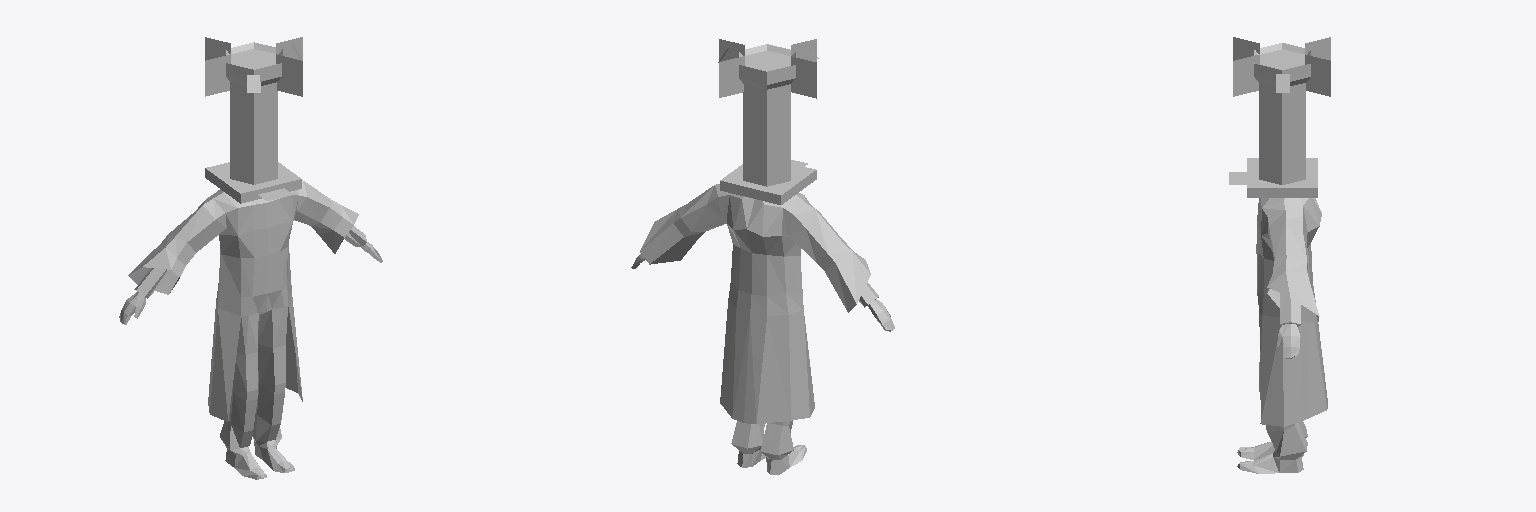
3 views of the same model, side by side, from view 1: azimuth 30°, elevation 25°; view 2: azimuth 150°, elevation 25°; view 3: azimuth 270°, elevation 25° (orthographic).
Visible parts, largest first — view 1: body, mensiscage, Cylinder.005, Cylinder.002; view 2: body, mensiscage, Cylinder.002, Cylinder.006; view 3: body, mensiscage, Cylinder.005, Cylinder.006.
Part boxes in pixels (bbox=[...]): body: bbox=[119, 180, 382, 479]; mensiscage: bbox=[205, 42, 301, 203]; Cylinder.005: bbox=[276, 54, 302, 96]; Cylinder.002: bbox=[205, 54, 230, 96]; body: bbox=[631, 184, 894, 474]; mensiscage: bbox=[720, 44, 816, 204]; Cylinder.002: bbox=[791, 56, 816, 98]; Cylinder.006: bbox=[719, 56, 744, 97]; body: bbox=[1237, 198, 1327, 473]; mensiscage: bbox=[1229, 43, 1317, 197]; Cylinder.005: bbox=[1233, 54, 1259, 96]; Cylinder.006: bbox=[1305, 55, 1330, 96].
Size of the model in its own units: 1.46 by 2.22 by 0.5003.